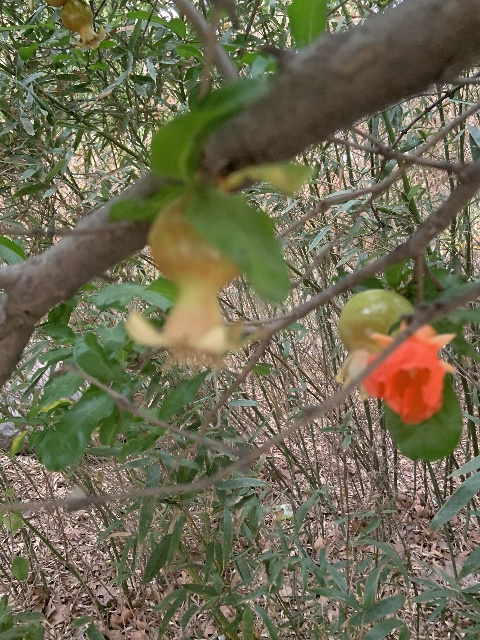early-fruit: (123, 195, 267, 373), (60, 0, 111, 49)
flower: (362, 323, 456, 424)
mid-growth: (334, 289, 416, 397)
